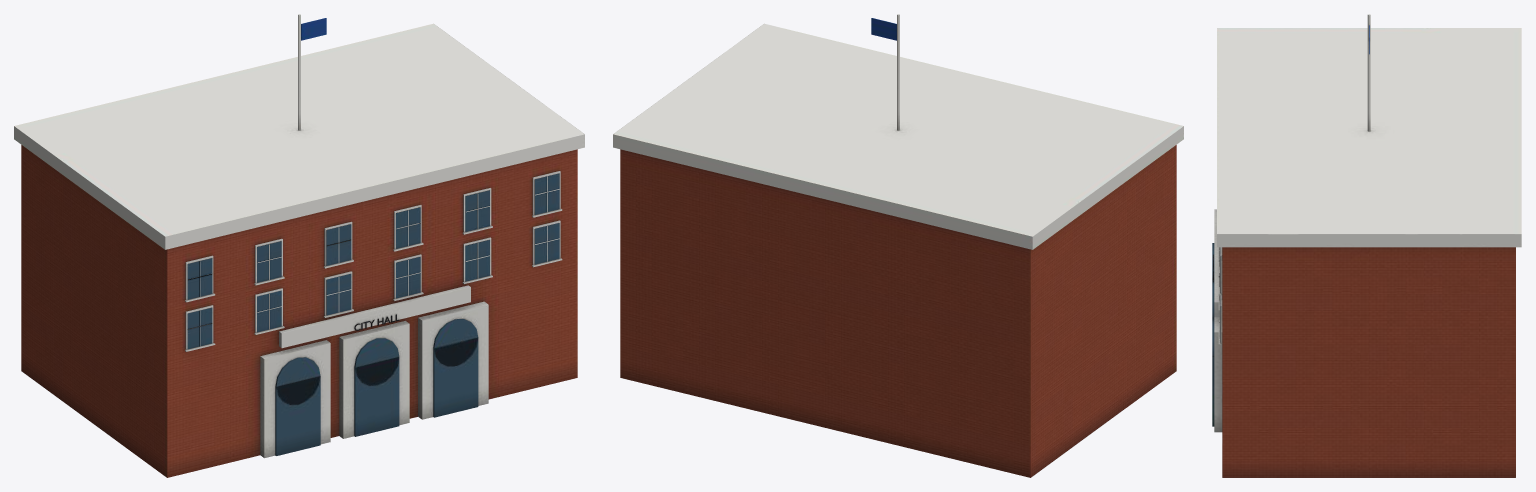
Rendered from ayuntamiento_btv.glb.
3 views of the same model, side by side, from view 1: azimuth 30°, elevation 25°; view 2: azimuth 150°, elevation 25°; view 3: azimuth 270°, elevation 25° (orthographic).
Parts seen in each view (by area): view 1: ayuntamiento_btv; view 2: ayuntamiento_btv; view 3: ayuntamiento_btv.
Part boxes in pixels (<box>): ayuntamiento_btv: <box>14,14,584,477</box>; ayuntamiento_btv: <box>613,14,1183,477</box>; ayuntamiento_btv: <box>1212,14,1521,477</box>.
Bounding box in the file's own units: 26.6 × 21.8 × 16.85.
Materials: 1 (1 with a texture image).
